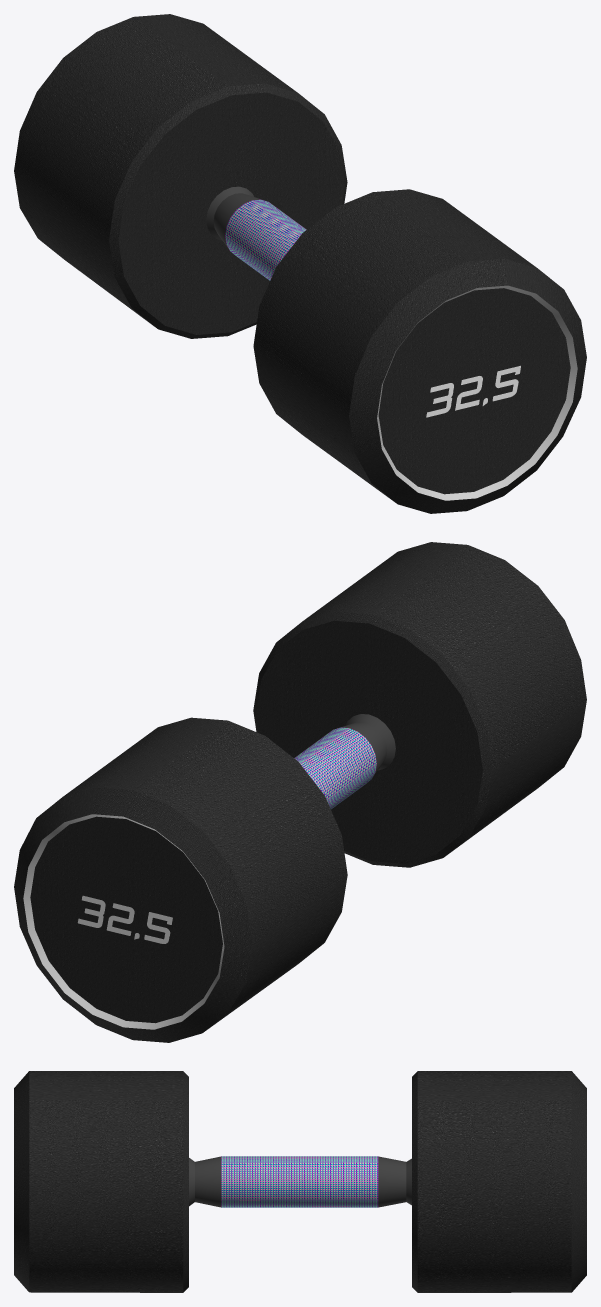
3 renders of one model, top to bottom at view 1: azimuth 30°, elevation 25°; view 2: azimuth 150°, elevation 25°; view 3: azimuth 270°, elevation 25°, orthographic. The views are drawn at different scales.
Visible parts, largest first — view 1: 32.5; view 2: 32.5; view 3: 32.5.
Part boxes in pixels (x1,y1,x2,y2): 32.5: (14,14,586,513); 32.5: (14,542,586,1042); 32.5: (14,1071,586,1292).
Bounding box in the file's own units: 0.1278 × 0.3273 × 0.1278.
